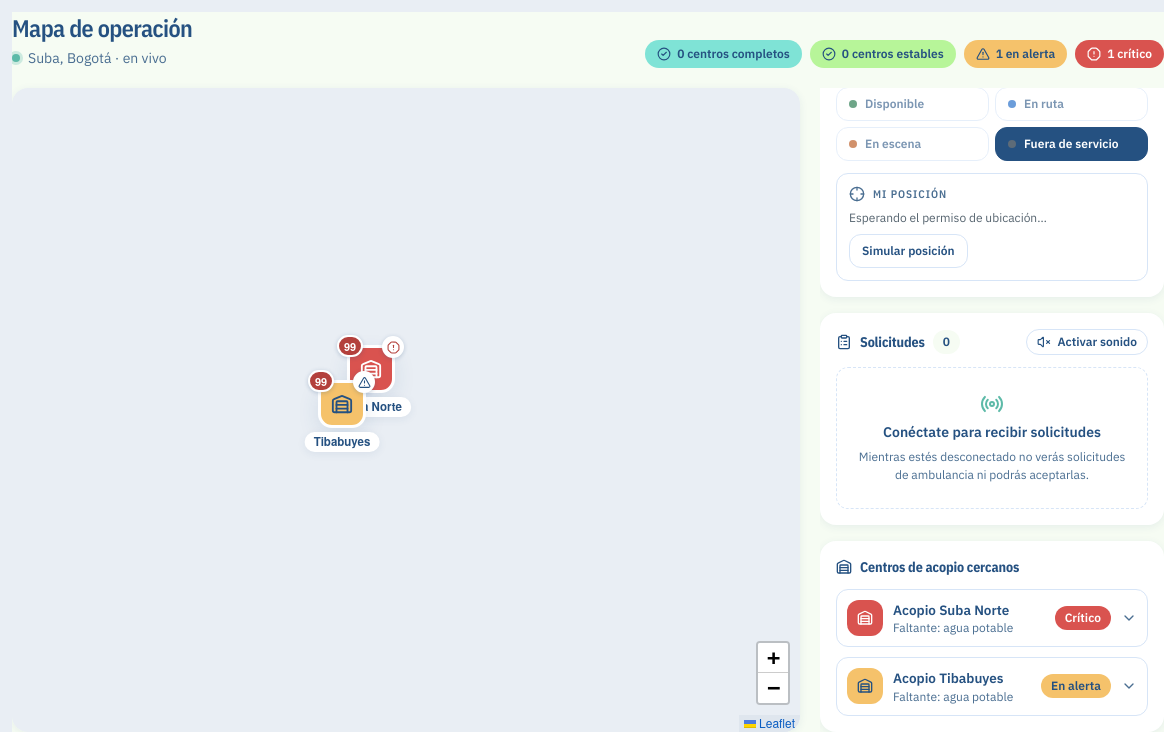
Test case: DriverConsolePage aid-center levels from the real inventory › keeps a single center open at a time
(page scrolled)
Click the button "Acopio Suba Norte Faltante: agua potable Crítico" at (992, 618), box [837,590,1147,646]
(page scrolled)
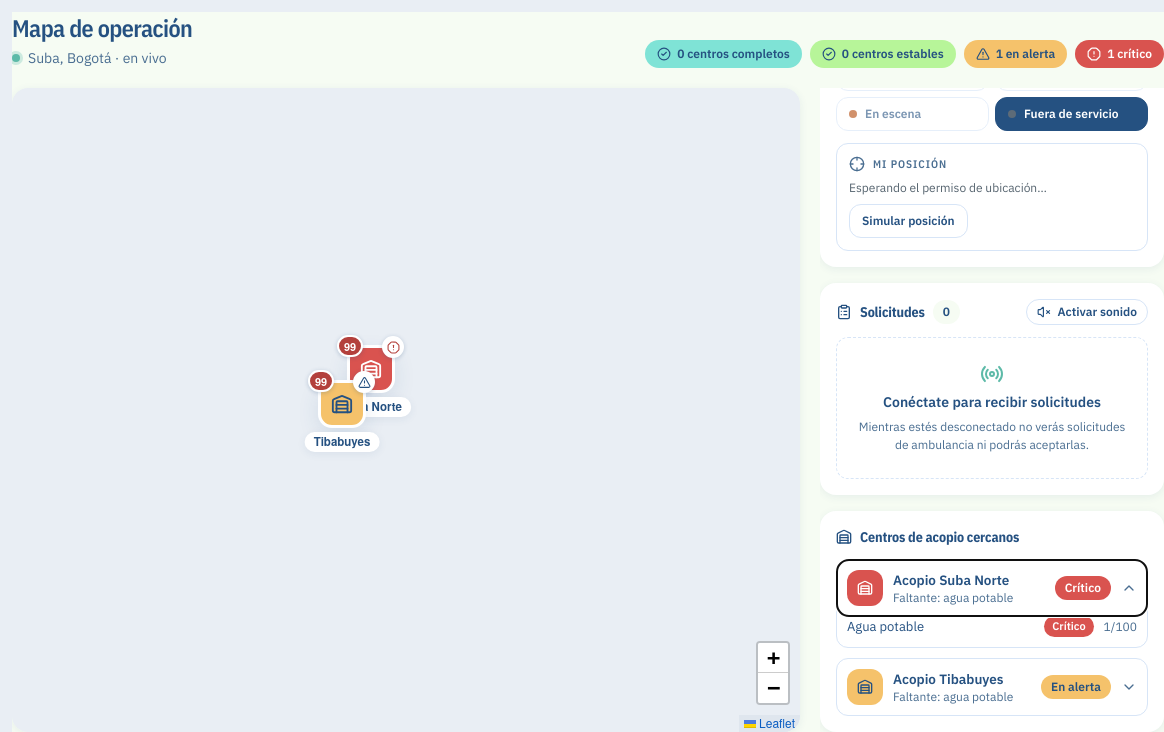
Check: the button "Acopio Suba Norte Faltante: agua potable Crítico" is expanded, box [837,560,1147,616]
Click the button "Acopio Tibabuyes Faltante: agua potable En alerta" at (992, 687), box [837,659,1147,715]
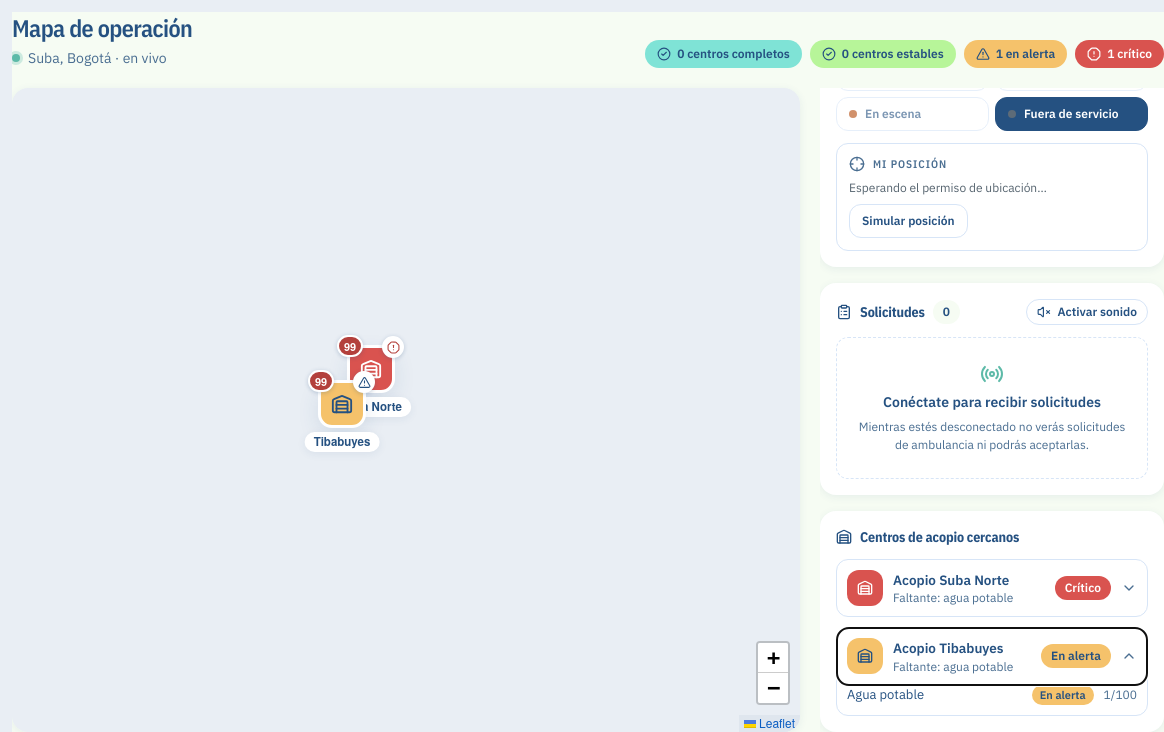
Check: the number of elements with test id "aid-center-detail" is 1, box [837,684,1147,715]
Check: the button "Acopio Suba Norte Faltante: agua potable Crítico" is collapsed, box [837,560,1147,616]
Check: the button "Acopio Tibabuyes Faltante: agua potable En alerta" is expanded, box [837,628,1147,685]
